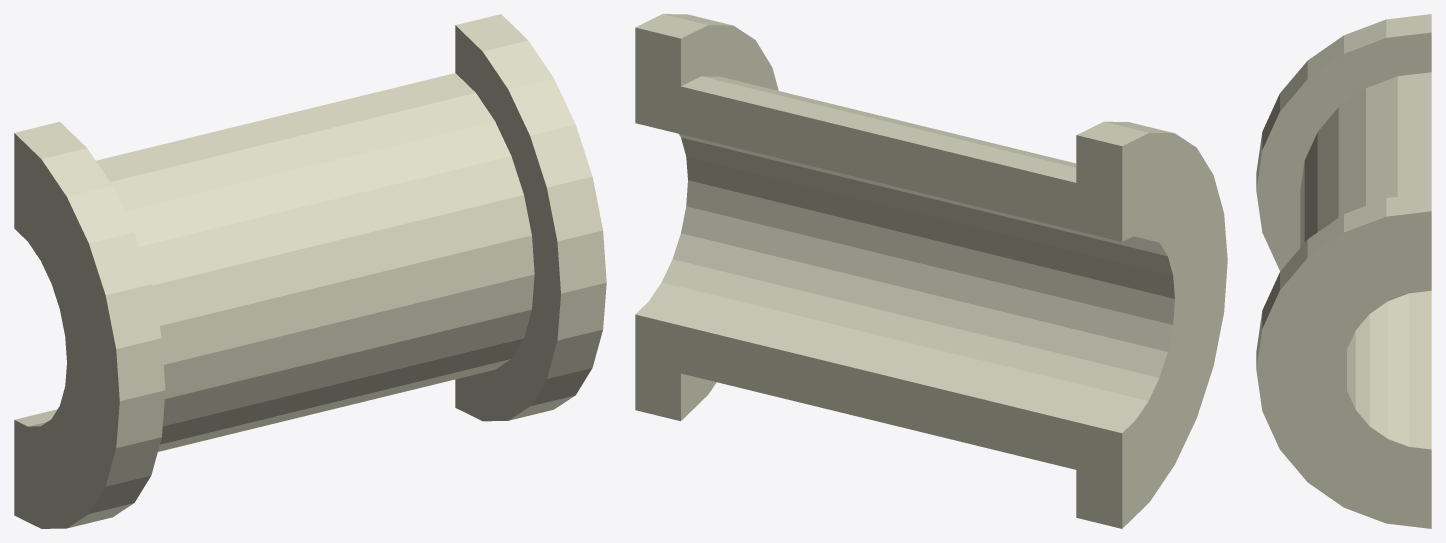
The model's file is section_153.obj.
The picture shows the model from 3 angles, left to right: view 1: azimuth 30°, elevation 25°; view 2: azimuth 150°, elevation 25°; view 3: azimuth 270°, elevation 25°; orthographic projection. The views are drawn at different scales.
Bounding box in the file's own units: 10.65 × 8 × 4.
